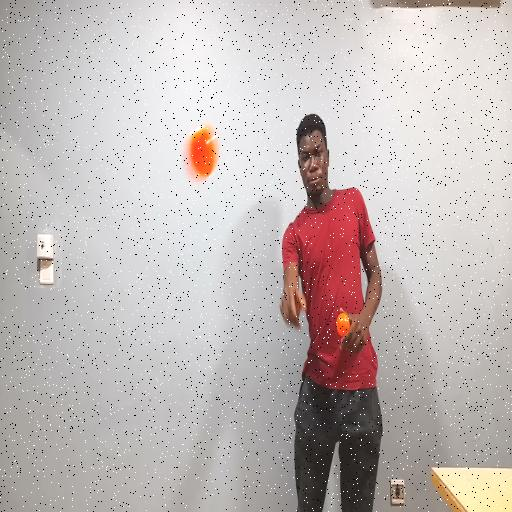plastic-ball: (174, 115, 227, 192)
